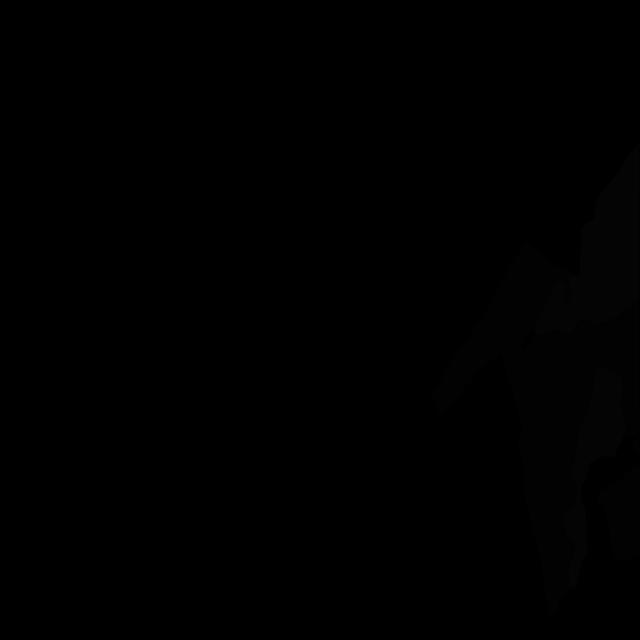cardboard: (431, 240, 640, 620)
soft_plastic: (534, 142, 640, 336), (563, 367, 626, 589)
